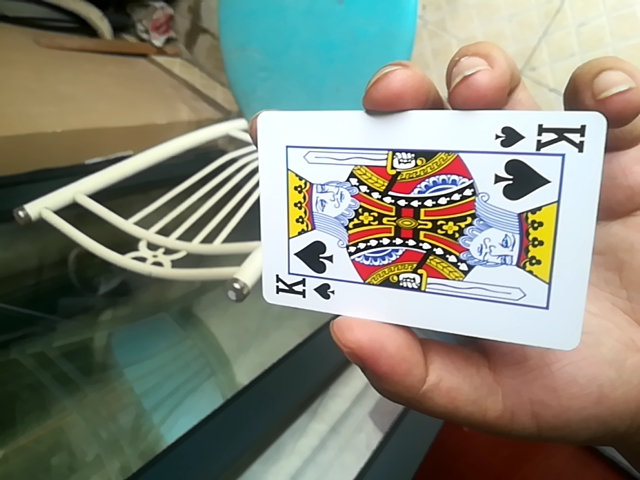ht k: (251, 108, 607, 352)
